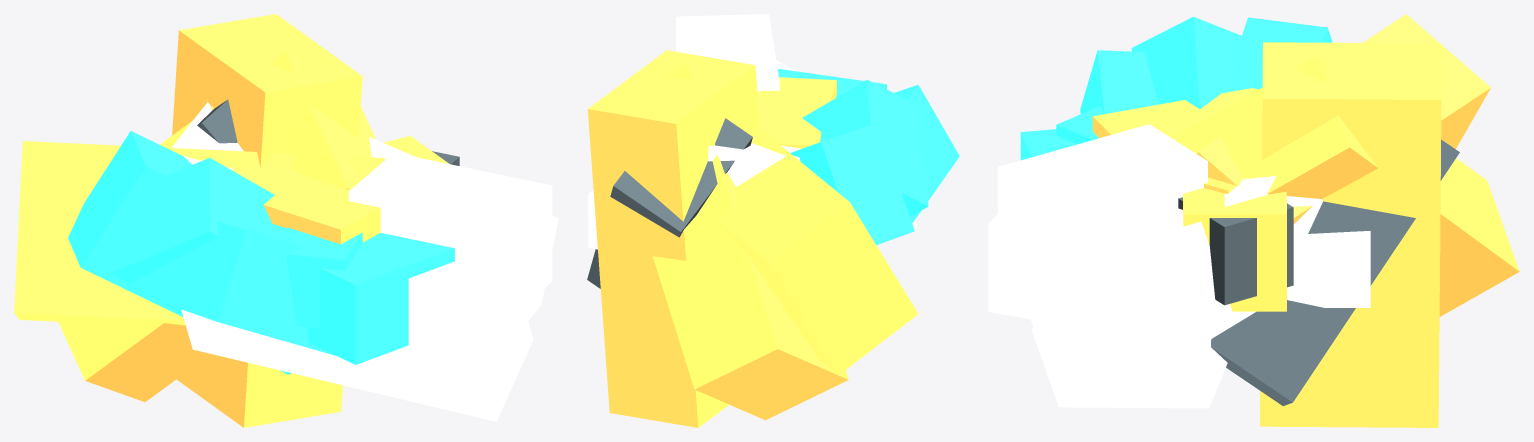
File: impact-shards.glb
3 views of the same model, side by side, from view 1: azimuth 30°, elevation 25°; view 2: azimuth 150°, elevation 25°; view 3: azimuth 270°, elevation 25° (orthographic). The views are drawn at different scales.
Visible parts, largest first — view 1: shard_08, shard_06, shard_03, shard_02, shard_01, shard_04, shard_07, shard_05, shard_09; view 2: shard_08, shard_06, shard_07, shard_05, shard_04, shard_01, shard_09, shard_03, shard_00; view 3: shard_08, shard_01, shard_07, shard_09, shard_02, shard_06, shard_04, shard_00, shard_03, shard_05.
Boxes of the visible parts, bbox=[...] form: shard_08: bbox=[172, 14, 449, 427]; shard_06: bbox=[14, 141, 384, 325]; shard_03: bbox=[126, 221, 454, 364]; shard_02: bbox=[181, 259, 533, 421]; shard_01: bbox=[171, 102, 558, 398]; shard_04: bbox=[110, 157, 362, 374]; shard_07: bbox=[58, 52, 375, 401]; shard_05: bbox=[68, 131, 286, 316]; shard_09: bbox=[197, 99, 459, 165]; shard_08: bbox=[587, 50, 759, 427]; shard_06: bbox=[714, 77, 918, 375]; shard_07: bbox=[653, 63, 848, 420]; shard_05: bbox=[790, 123, 914, 244]; shard_04: bbox=[802, 79, 928, 216]; shard_01: bbox=[626, 14, 801, 186]; shard_09: bbox=[587, 118, 752, 288]; shard_03: bbox=[777, 69, 959, 222]; shard_00: bbox=[588, 190, 597, 249]; shard_08: bbox=[1183, 42, 1441, 427]; shard_01: bbox=[998, 124, 1322, 380]; shard_07: bbox=[1173, 56, 1519, 316]; shard_09: bbox=[1178, 139, 1459, 405]; shard_02: bbox=[988, 214, 1227, 408]; shard_06: bbox=[1092, 14, 1490, 224]; shard_04: bbox=[1056, 16, 1241, 144]; shard_00: bbox=[1287, 231, 1370, 307]; shard_03: bbox=[1020, 50, 1158, 160]; shard_05: bbox=[1232, 17, 1332, 91].
Size of the model in its own units: 0.059 by 0.0452 by 0.0608.
